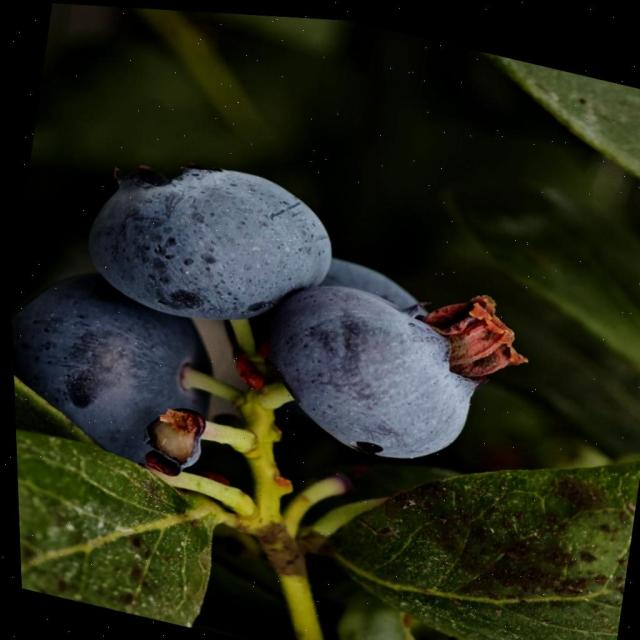RipeBlueBerry: (72, 135, 340, 343), (7, 259, 232, 482), (250, 274, 490, 472)
